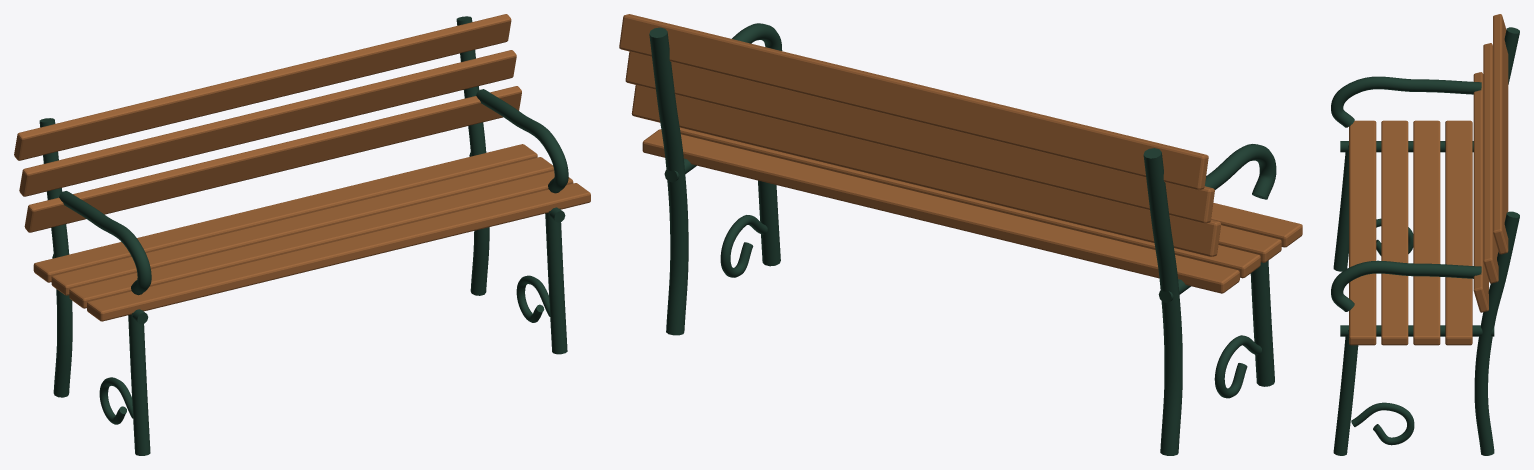
The model's file is park_bench.glb.
3 renders of one model, left to right at view 1: azimuth 30°, elevation 25°; view 2: azimuth 150°, elevation 25°; view 3: azimuth 270°, elevation 25°, orthographic. The views are drawn at different scales.
Parts seen in each view (by area): view 1: park_bench; view 2: park_bench; view 3: park_bench.
Part boxes in pixels (x1,y1,x2,y2): park_bench: (14,14,590,455); park_bench: (619,14,1302,455); park_bench: (1331,14,1519,455).
Size of the model in its own units: 1.6 by 0.8262 by 0.5895.
